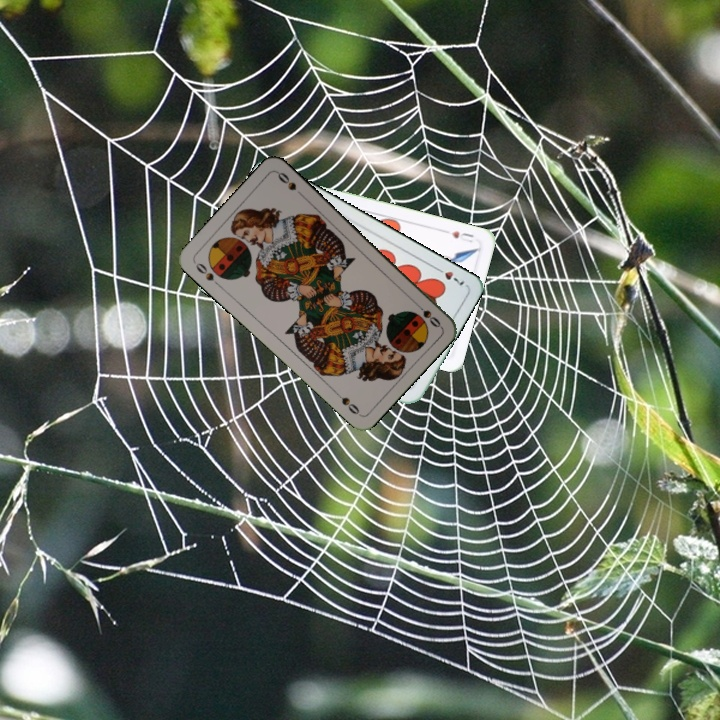H7: (431, 263, 467, 288)
HU: (440, 226, 476, 245)
SO: (191, 258, 223, 290), (411, 299, 443, 330)
